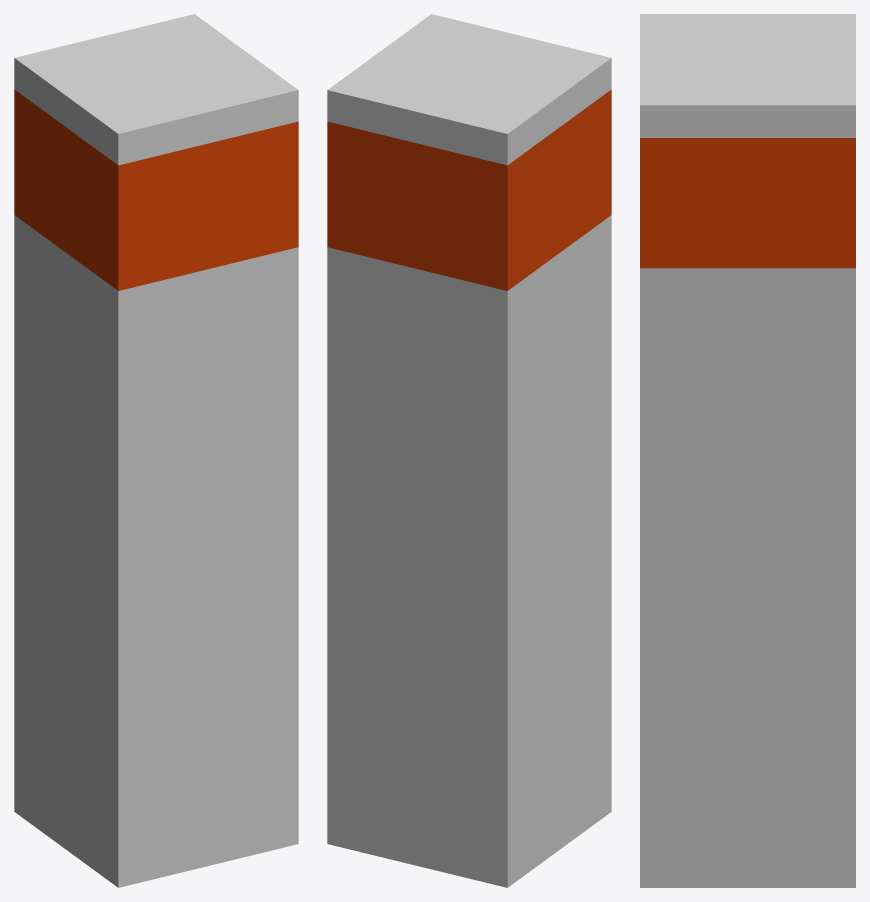
The model's file is box-noUVs.glb.
3 renders of one model, left to right at view 1: azimuth 30°, elevation 25°; view 2: azimuth 150°, elevation 25°; view 3: azimuth 270°, elevation 25°, orthographic. The views are drawn at different scales.
Visible parts, largest first — view 1: Cube; view 2: Cube; view 3: Cube.
Boxes of the visible parts, x1,y1,x2,y2 form: Cube: (14, 14, 298, 887); Cube: (327, 14, 611, 887); Cube: (640, 14, 855, 887).
Bounding box in the file's own units: 2 × 8 × 2.
